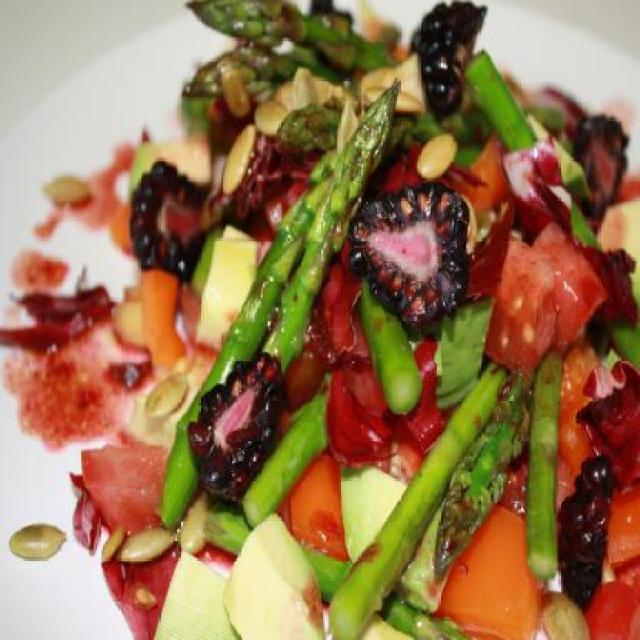Salad: (4, 0, 638, 638)
